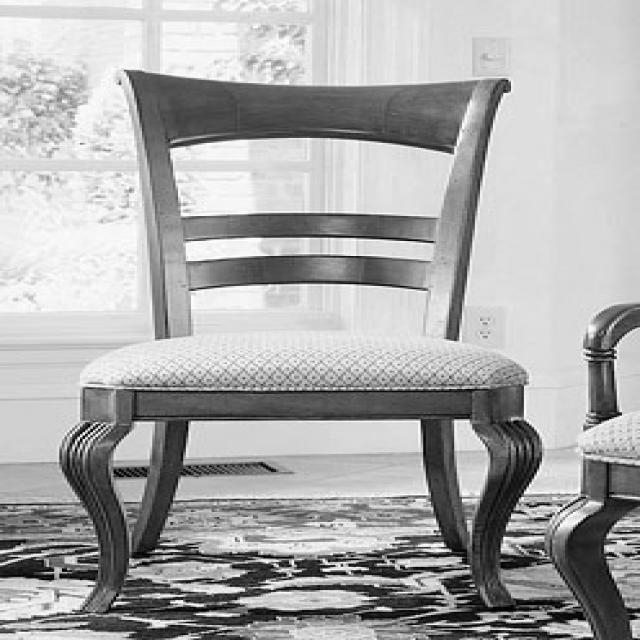chair: (56, 68, 540, 615)
